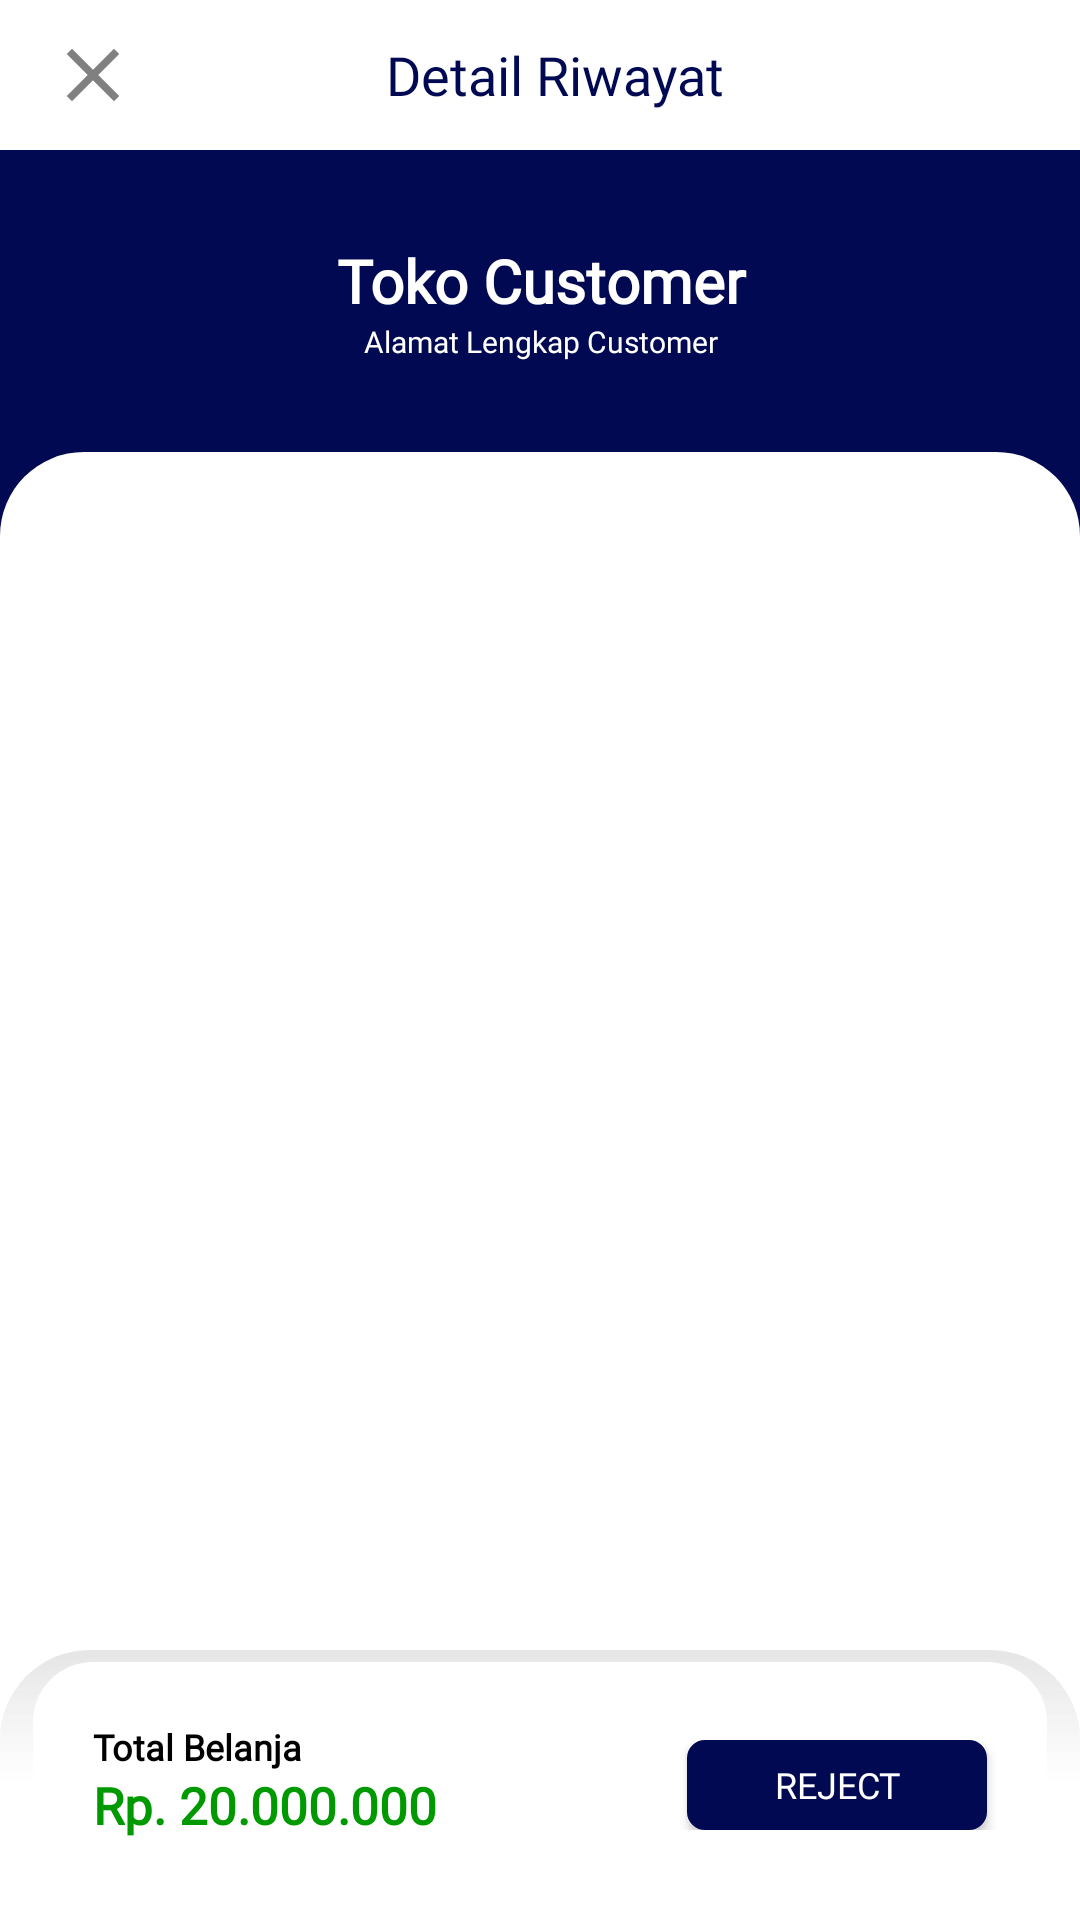

Where icons sit on this 1080px×1920px app screen, as (x1, y1, x2, y2):
back: (67, 49, 119, 101)
